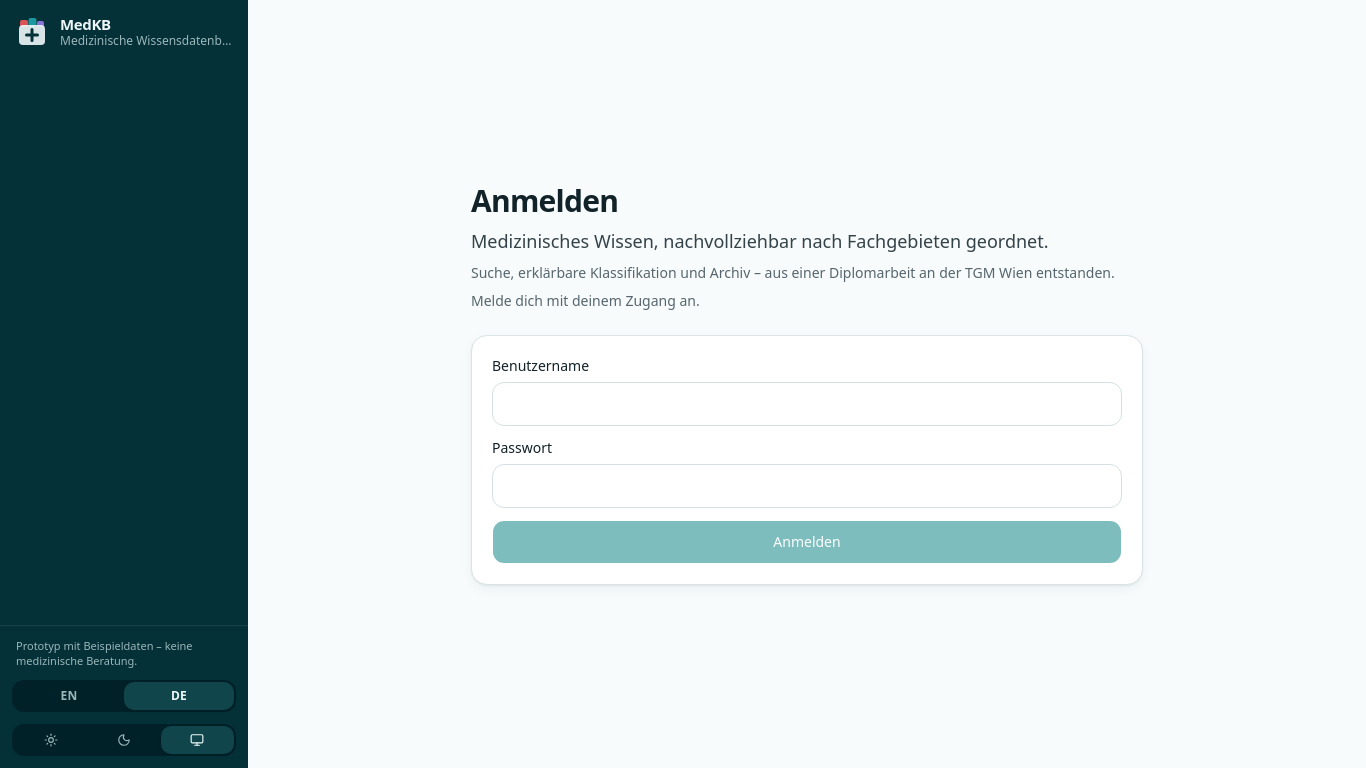
Scenario: LoginPage › reports wrong credentials
Type "admin" into the field labelled "Benutzername" at [807, 404], box [492,382,1122,426]
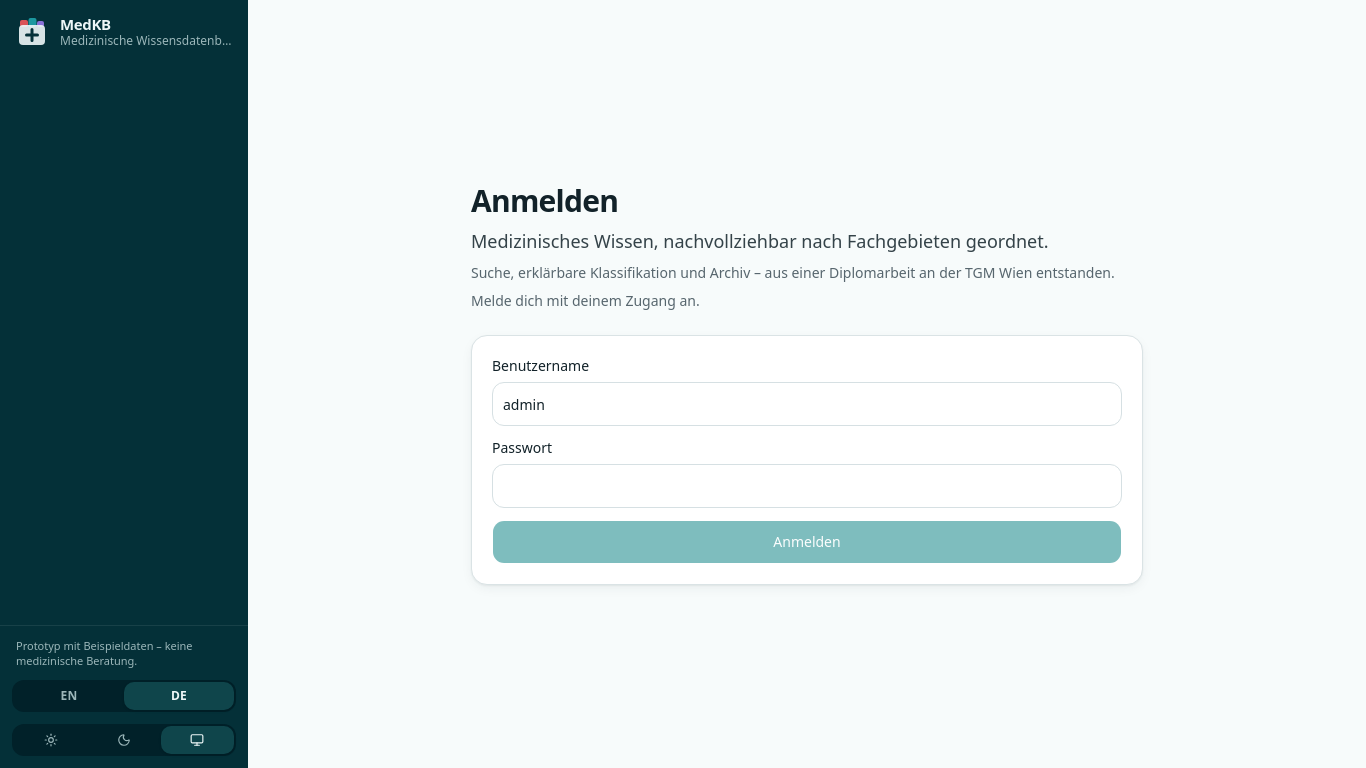
Type "falsch" into the password field labelled "Passwort" at [807, 486], box [492,464,1122,508]
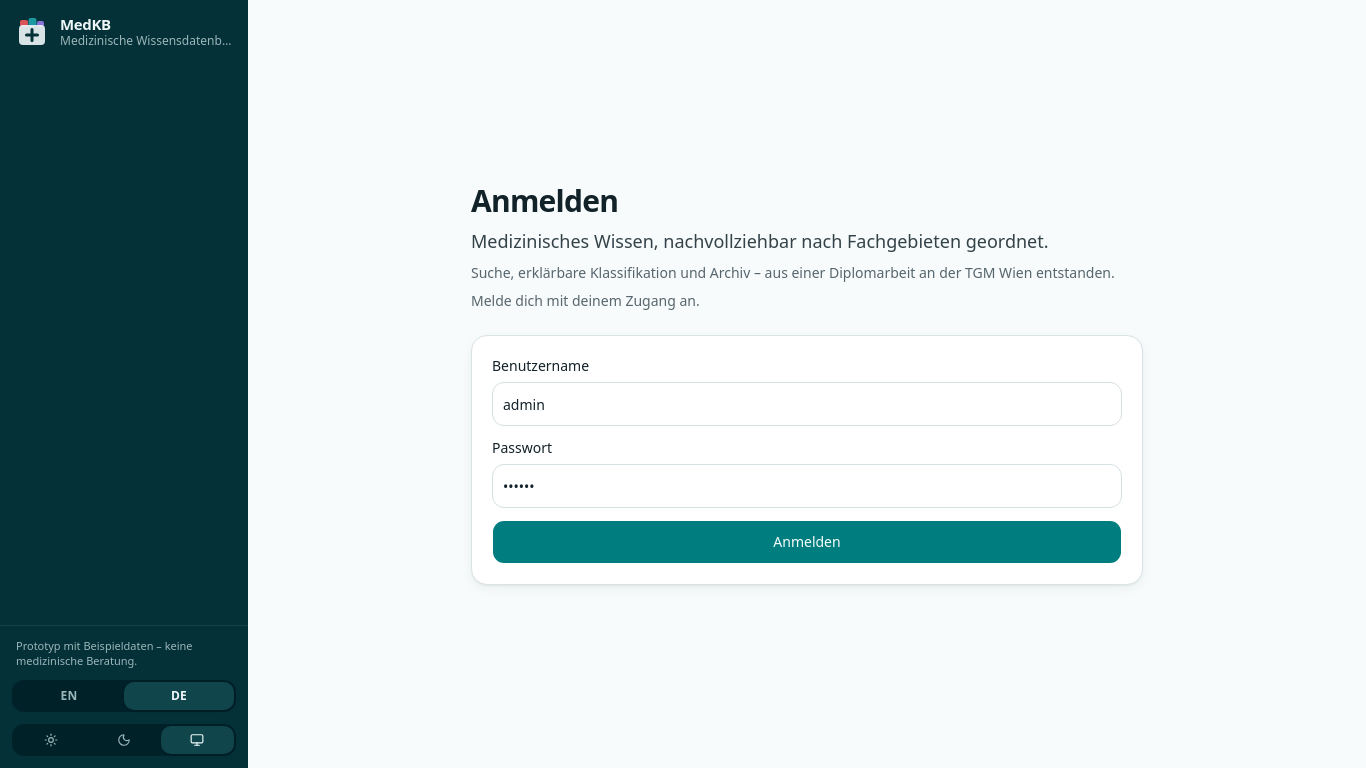
Click the button "Anmelden" at [807, 542], box [492,520,1122,564]
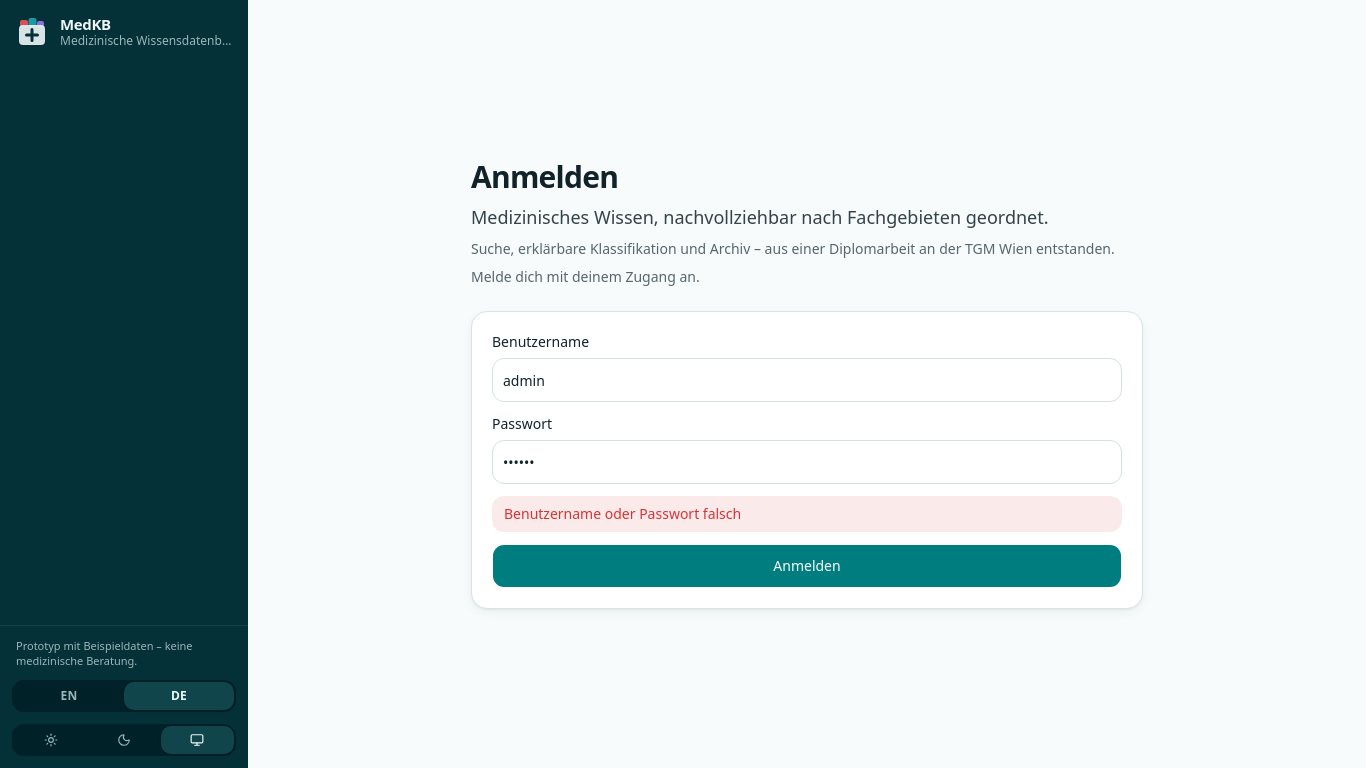
Now the text "Benutzername oder Passwort falsch" is shown, box [492,496,1122,532]
